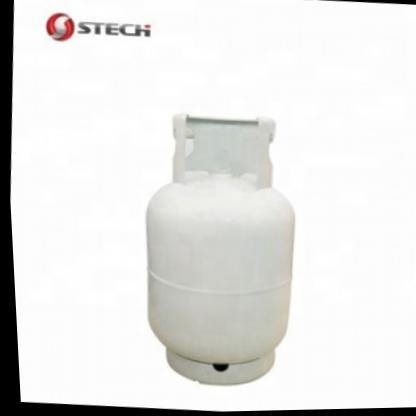gas-tank: (106, 91, 328, 410)
